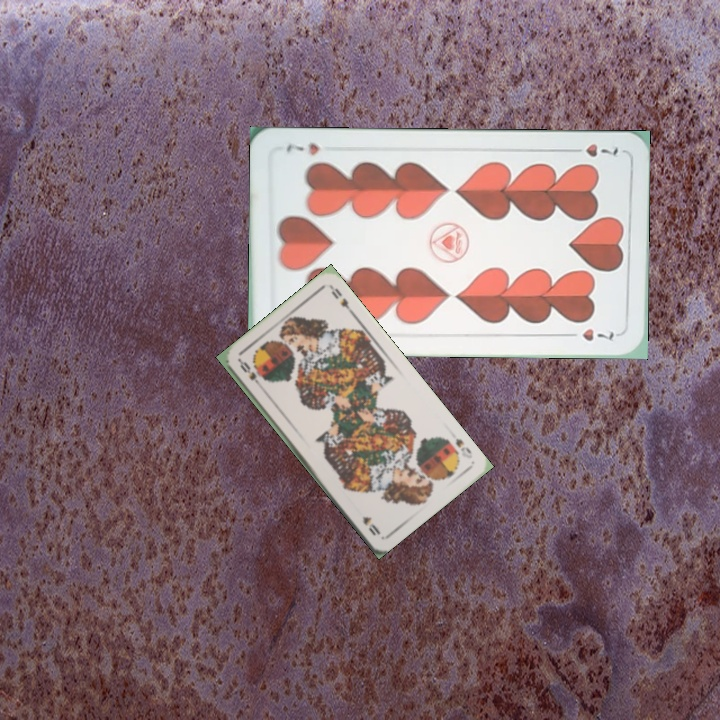H7: (564, 139, 620, 160)
SO: (235, 356, 265, 391), (451, 434, 475, 461)
